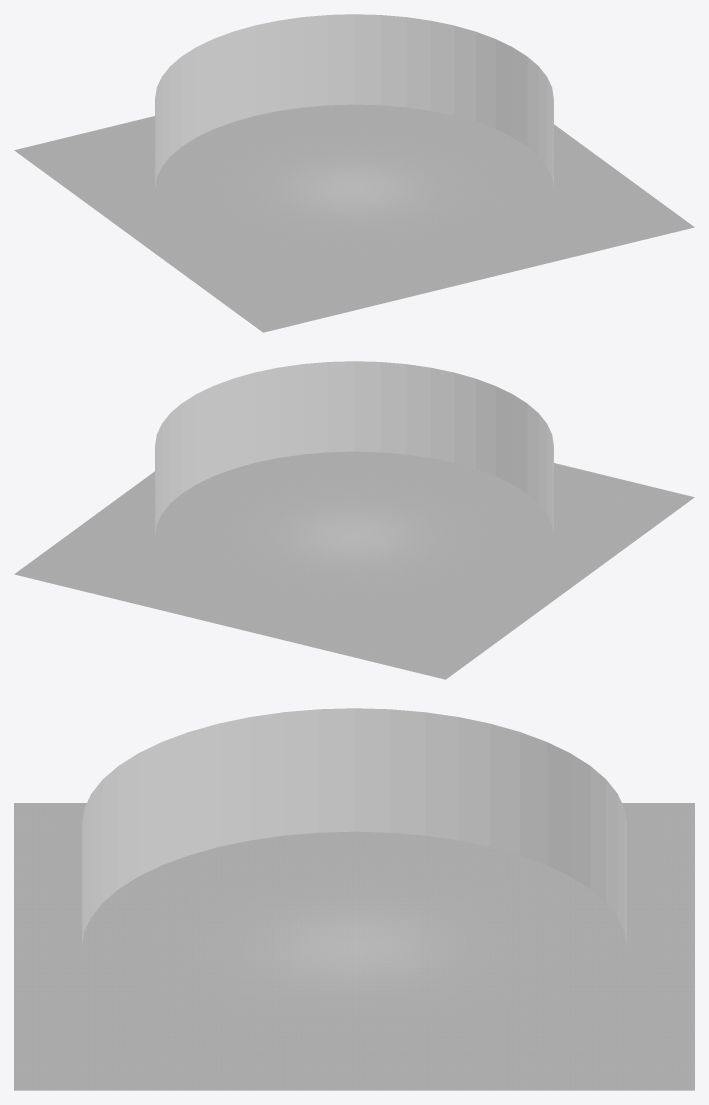
Rendered from grid_playground.glb.
The picture shows the model from 3 angles, top to bottom: view 1: azimuth 30°, elevation 25°; view 2: azimuth 150°, elevation 25°; view 3: azimuth 270°, elevation 25°; orthographic projection. The views are drawn at different scales.
Visible parts, largest first — view 1: grid_playground_root; view 2: grid_playground_root; view 3: grid_playground_root.
Boxes of the visible parts, x1=… form: grid_playground_root: x1=14, y1=14, x2=694, y2=332; grid_playground_root: x1=14, y1=361, x2=694, y2=679; grid_playground_root: x1=14, y1=708, x2=694, y2=1090.
Bounding box in the file's own units: 200 × 40.5 × 200.
2 materials, 1 textured.
